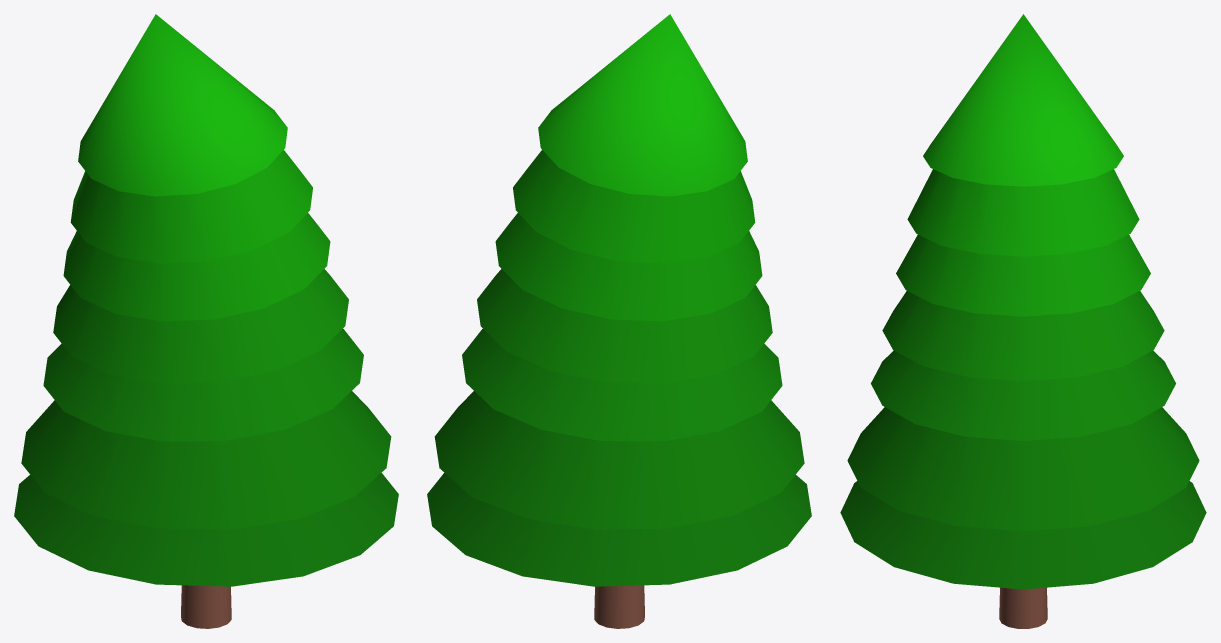
Rendered from Spruce_Cold_Green_Thick_4.fbx.
3 renders of one model, left to right at view 1: azimuth 30°, elevation 25°; view 2: azimuth 150°, elevation 25°; view 3: azimuth 270°, elevation 25°, orthographic. The views are drawn at different scales.
Parts seen in each view (by area): view 1: Cylinder.935, Cylinder.936, Cylinder.934, Cylinder.937, Cylinder.939, Cylinder.932, Cylinder.938, Cylinder.933; view 2: Cylinder.935, Cylinder.936, Cylinder.934, Cylinder.937, Cylinder.939, Cylinder.932, Cylinder.938, Cylinder.933; view 3: Cylinder.935, Cylinder.934, Cylinder.936, Cylinder.937, Cylinder.939, Cylinder.932, Cylinder.938, Cylinder.933.
Part boxes in pixels (x1,y1,x2,y2): Cylinder.935: [21, 391, 391, 529]; Cylinder.936: [78, 14, 287, 196]; Cylinder.934: [14, 473, 398, 586]; Cylinder.937: [43, 329, 363, 441]; Cylinder.939: [53, 269, 348, 383]; Cylinder.932: [70, 150, 312, 263]; Cylinder.938: [63, 213, 330, 321]; Cylinder.933: [181, 585, 231, 628]; Cylinder.935: [434, 391, 804, 529]; Cylinder.936: [538, 14, 747, 196]; Cylinder.934: [427, 473, 811, 586]; Cylinder.937: [462, 329, 782, 441]; Cylinder.939: [477, 269, 772, 383]; Cylinder.932: [513, 150, 755, 263]; Cylinder.938: [495, 213, 762, 321]; Cylinder.933: [594, 585, 644, 628]; Cylinder.935: [847, 407, 1199, 531]; Cylinder.934: [840, 481, 1206, 589]; Cylinder.936: [923, 14, 1123, 186]; Cylinder.937: [871, 350, 1175, 440]; Cylinder.939: [882, 291, 1164, 381]; Cylinder.932: [907, 169, 1139, 256]; Cylinder.938: [896, 234, 1150, 316]; Cylinder.933: [999, 587, 1047, 628].
Bounding box in the file's own units: 349 × 611 × 349.
